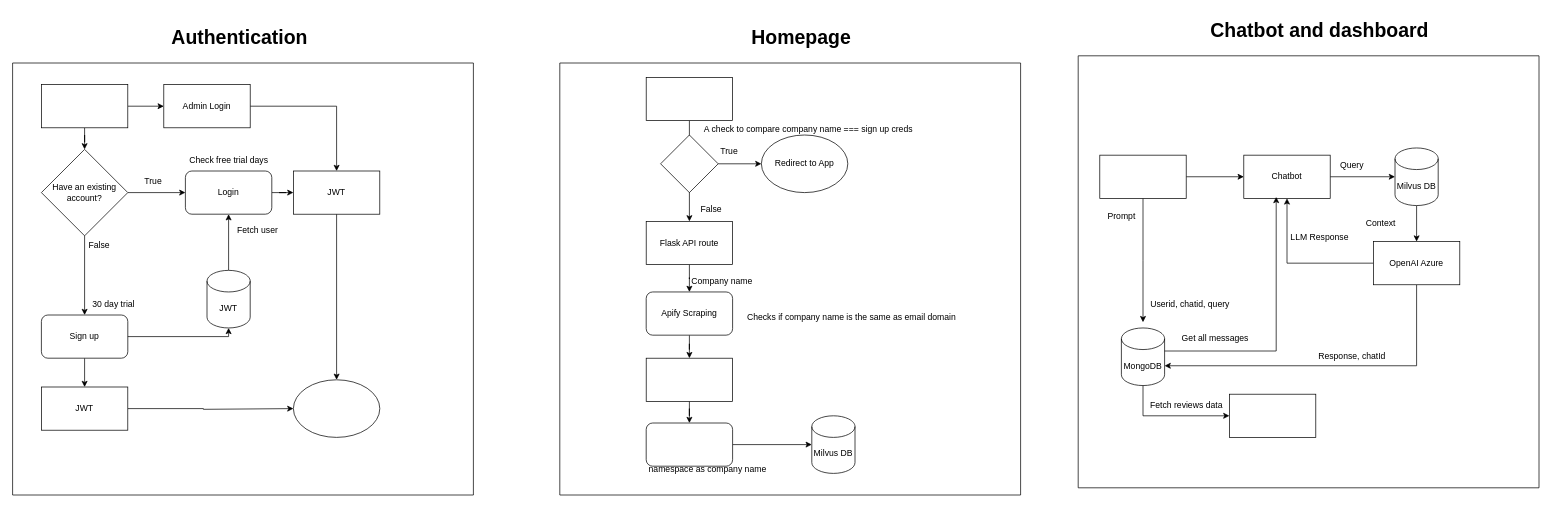
Image size: 1552x508. Some labels were removed from this diagram. Here are the shapes that lost their labels. From the top down, the centre of each, then its label:
At pixel 84 106: "Home Page".
At pixel 689 99: "Input company name".
At pixel 689 163: "Data available?".
At pixel 1142 176: "User Query".
At pixel 689 379: "Google Reviews Data".
At pixel 336 408: "Redirect to homepage".
At pixel 1272 415: "Dashboard".
At pixel 689 444: "Create Embeddings".
